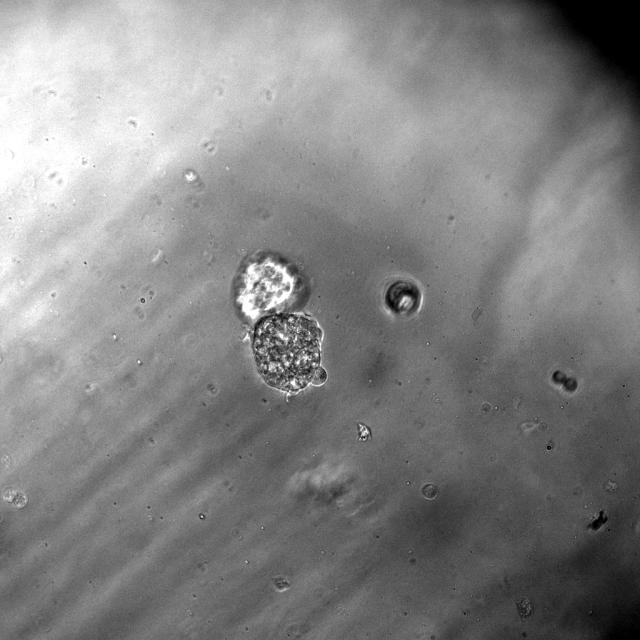organoid: (251, 312, 326, 395), (231, 249, 310, 324), (384, 279, 421, 316), (551, 369, 578, 393), (2, 487, 28, 508), (589, 510, 609, 531), (514, 596, 532, 619), (421, 482, 439, 500), (272, 574, 290, 592), (358, 423, 372, 440)
